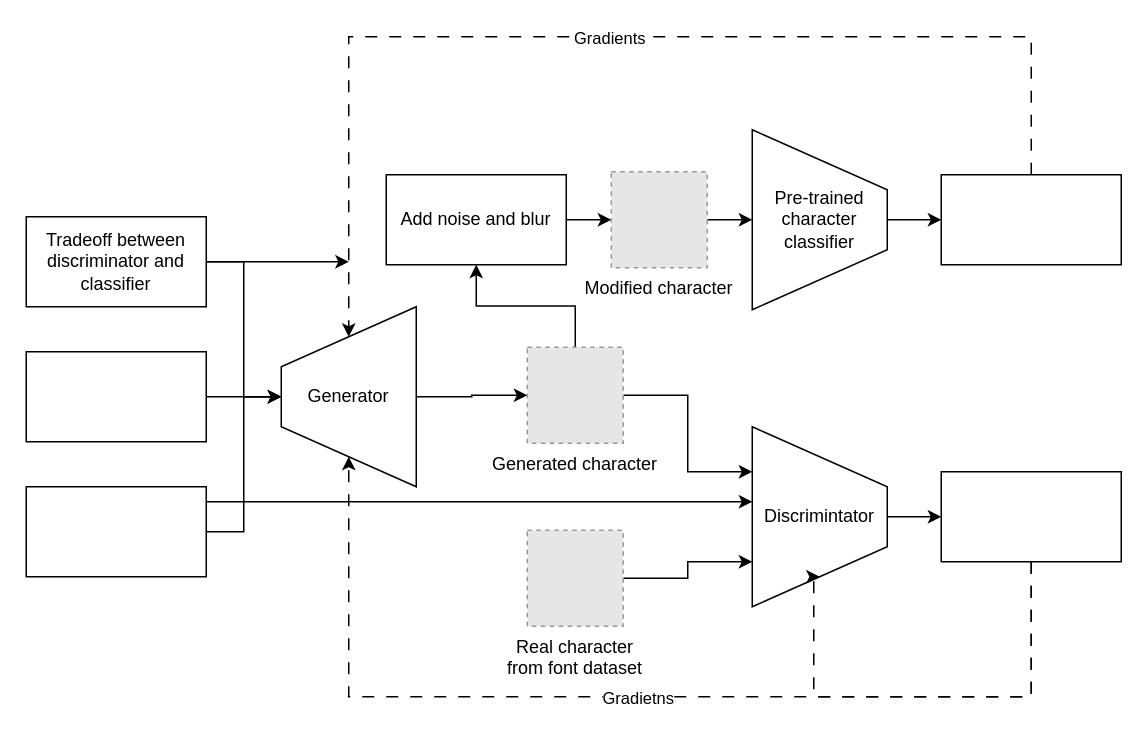
Image size: 1148x735. Some labels were removed from this diagram. Grey dashed boxes stand in for pictures. The shapes that lost their labels are listed below. From the top down, each one's centre as x and y in pixels, then its label:
At point (1030, 219): "Decision: Which character is this?".
At point (115, 396): "Gaussian Input Vector".
At point (115, 531): "Desired character: E".
At point (1030, 516): "Decision: Which input is real?".
